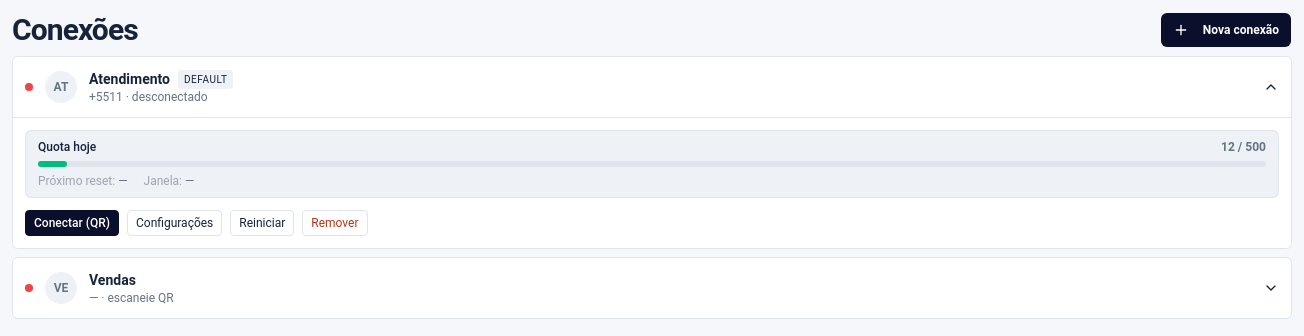
Test: InstancesList › expande apenas uma instância por vez
The image size is (1304, 336).
Expected: the text "12 / 500" is shown, left=1221, top=139, right=1266, bottom=155
# Click the second row's name to expand it (and collapse the first)
Click the text "Vendas": [112, 280] box left=89, top=270, right=136, bottom=290
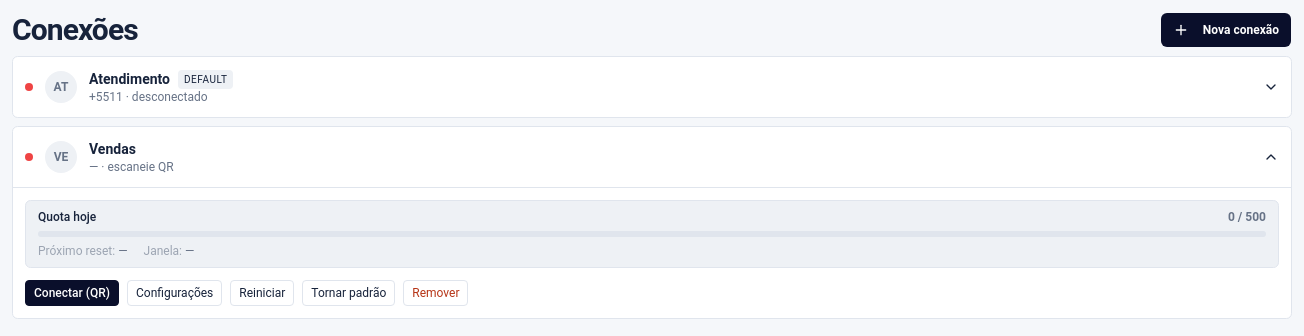
Expected: the text "12 / 500" is gone
Expected: the text "0 / 500" is shown, left=1228, top=209, right=1266, bottom=225
